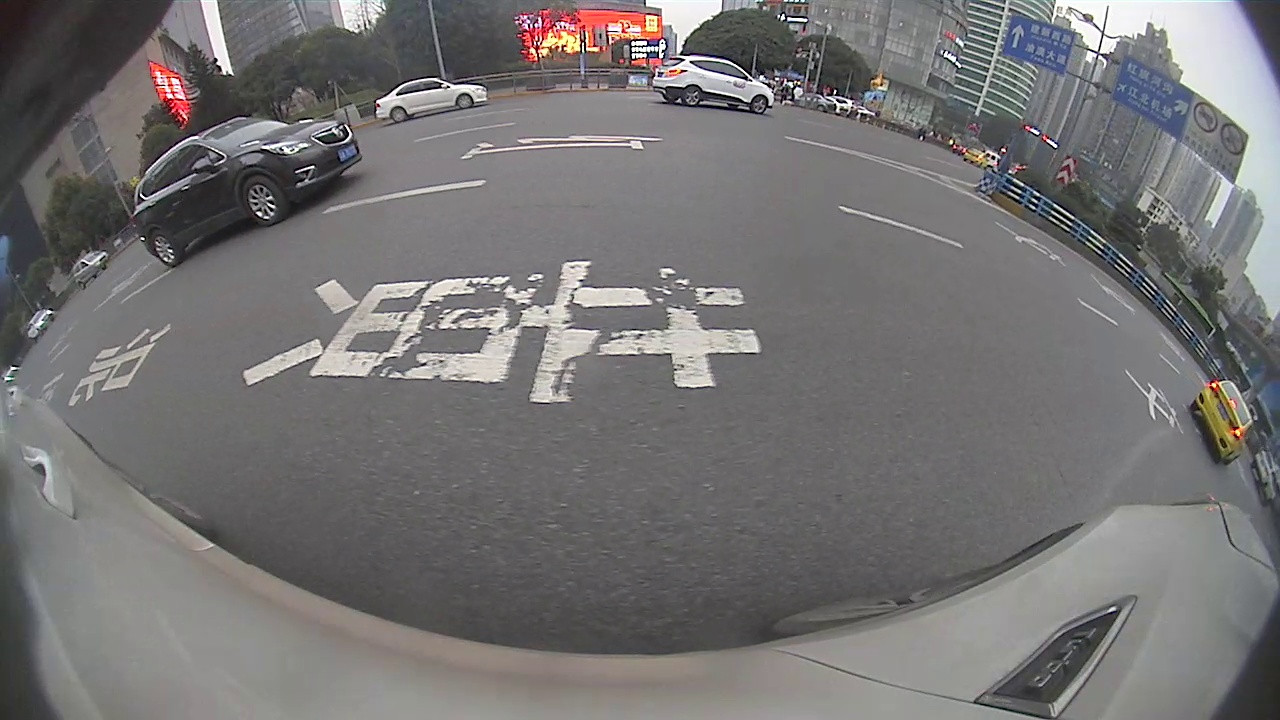car: (130, 114, 363, 268), (651, 53, 778, 118), (1188, 380, 1256, 467), (375, 76, 491, 123)
front: (240, 174, 284, 227), (751, 93, 768, 115), (454, 93, 473, 111)
rear: (145, 228, 183, 269), (681, 82, 702, 108), (388, 106, 409, 124)
